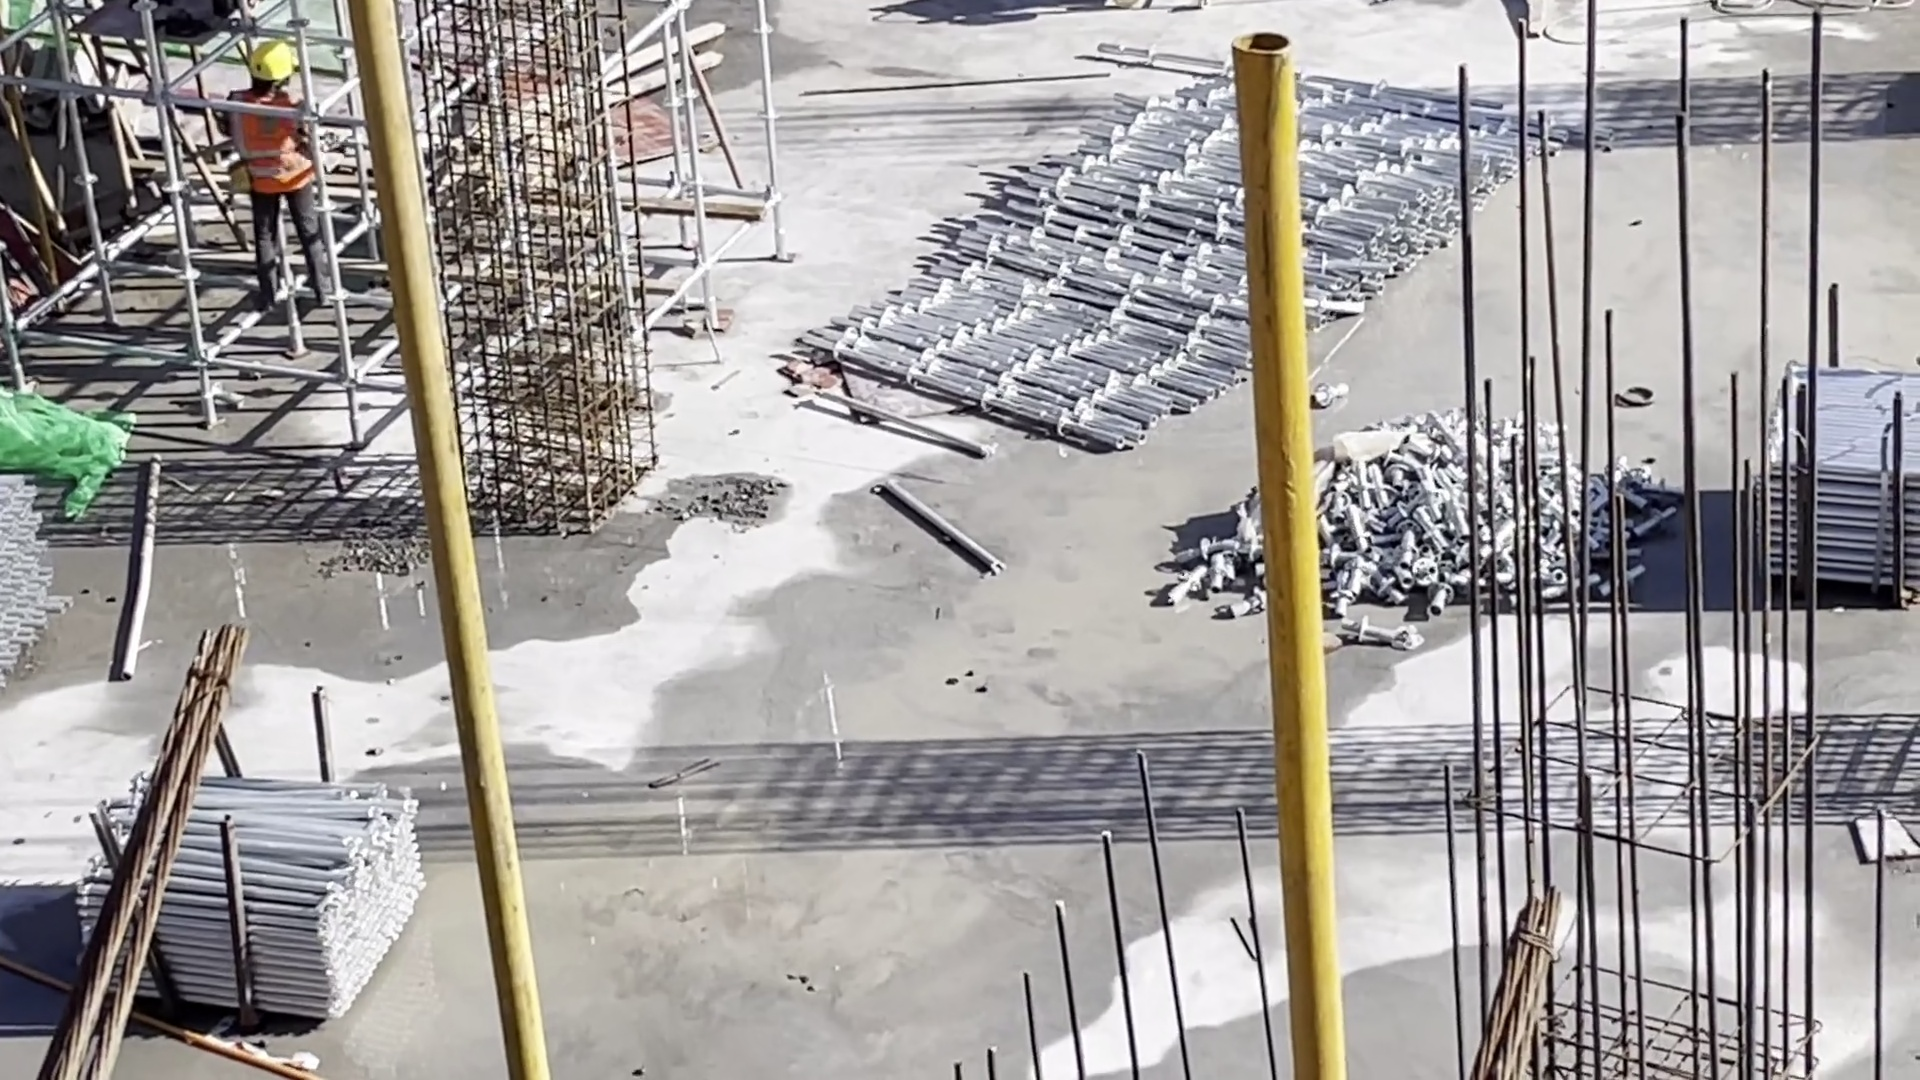helmet: (243, 39, 298, 87)
person: (211, 38, 345, 317)
scaffold: (796, 39, 1621, 449), (76, 771, 425, 1029), (1767, 359, 1920, 595)
vest: (229, 90, 321, 195)
